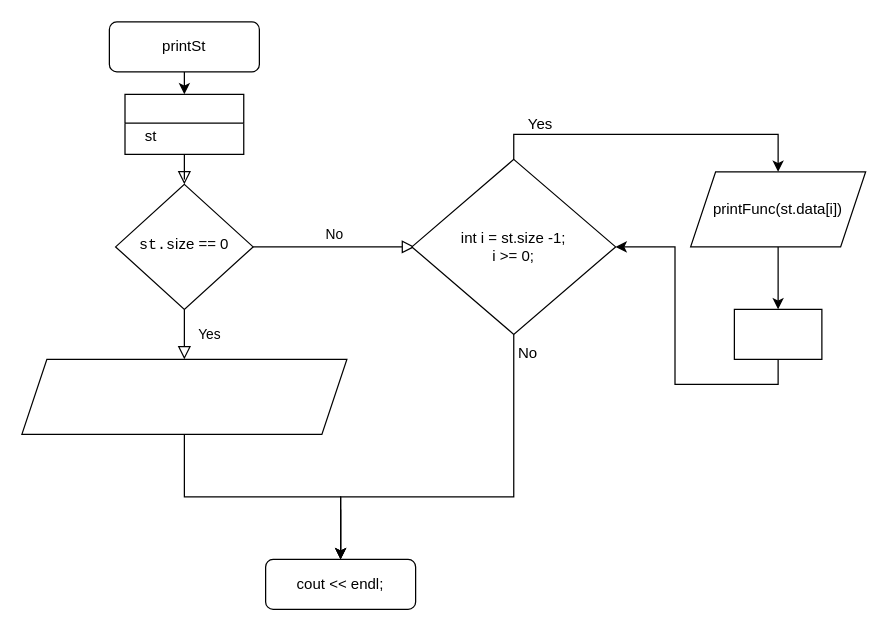
Some shapes in this 888 by 631 pixel diagram are drawn without their labels. The box of each missing label's shape, as (x1, y1, x2, y2) in pixels:
--i: (733, 308, 822, 359)
cout << "Stack is empty! " << endl; return '\0';: (21, 358, 347, 434)
параметри: (124, 93, 244, 154)
